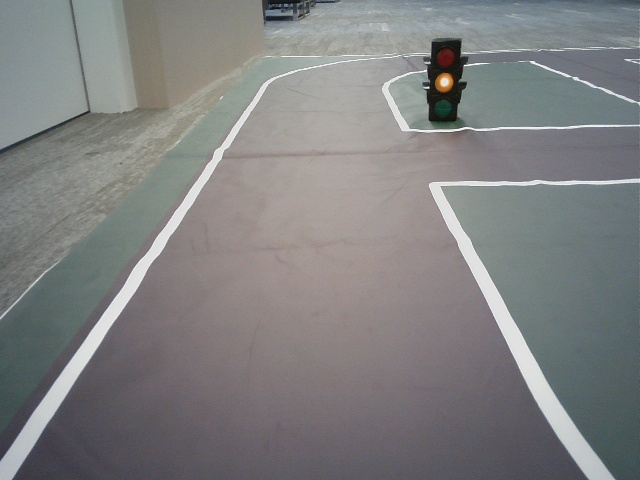yellow: (426, 46, 457, 119)
